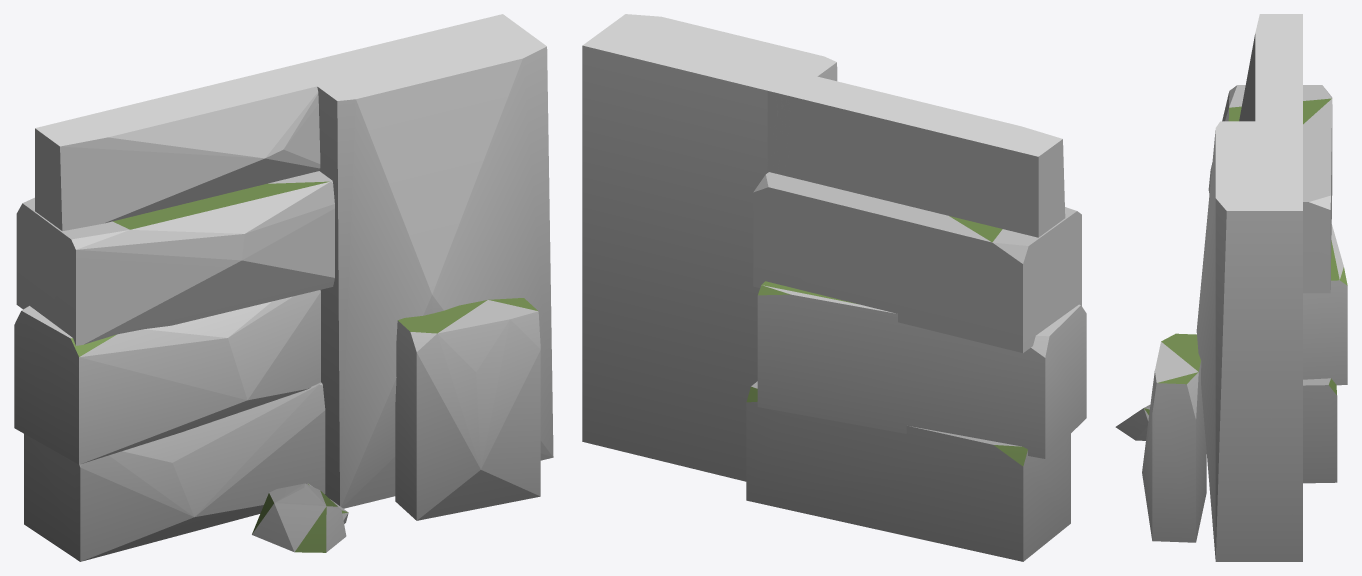
3 views of the same model, side by side, from view 1: azimuth 30°, elevation 25°; view 2: azimuth 150°, elevation 25°; view 3: azimuth 270°, elevation 25° (orthographic). The views are drawn at different scales.
Parts seen in each view (by area): view 1: rk_cf3_2; view 2: rk_cf3_2; view 3: rk_cf3_2.
Part boxes in pixels (<box>): rk_cf3_2: <box>14,14,553,561</box>; rk_cf3_2: <box>582,14,1086,561</box>; rk_cf3_2: <box>1115,14,1347,561</box>.
Bounding box in the file's own units: 35.33 × 28.5 × 17.11.
